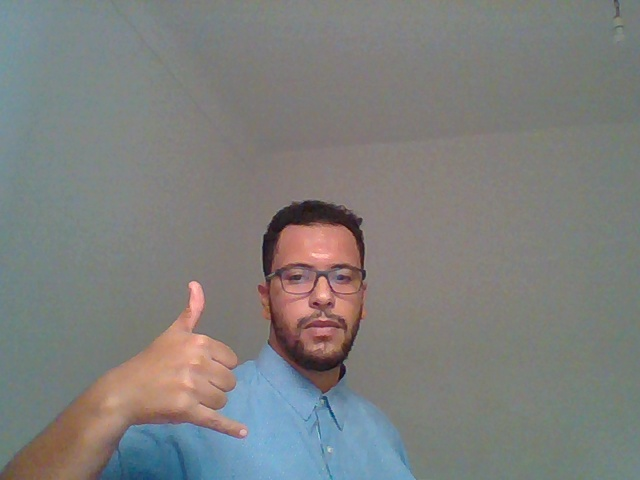callme: (71, 234, 260, 469)
